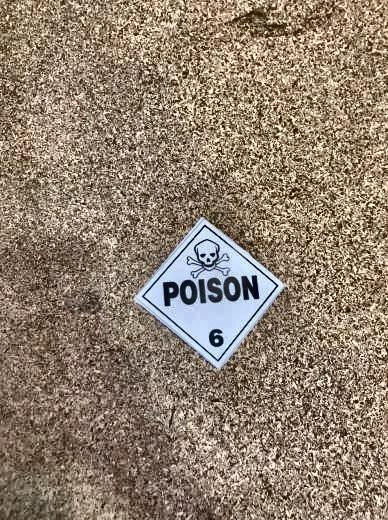poison: (134, 216, 286, 370)
